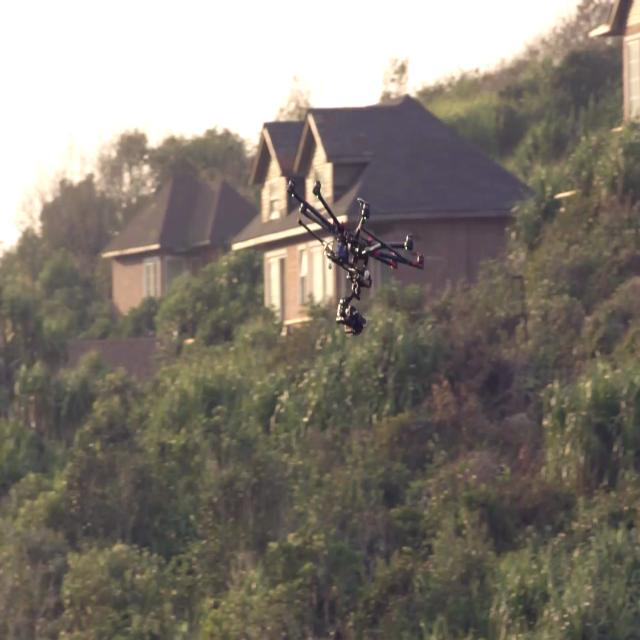drone: (282, 153, 423, 378)
